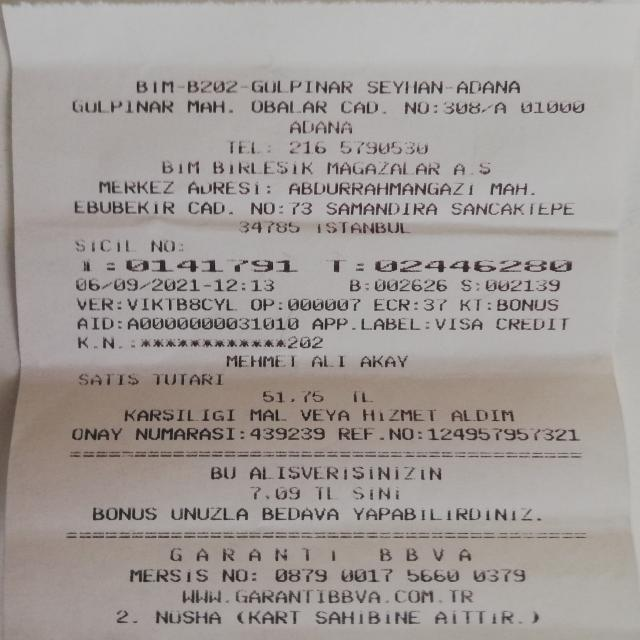text: (182, 587, 472, 604), (338, 426, 578, 441), (84, 256, 295, 273), (288, 179, 472, 198), (374, 257, 571, 274), (249, 464, 440, 480), (168, 546, 339, 562), (353, 506, 531, 521), (451, 200, 573, 218), (326, 199, 436, 217), (72, 96, 173, 115), (327, 159, 437, 176), (74, 198, 173, 216), (128, 296, 236, 312), (124, 407, 234, 422), (379, 546, 470, 564), (250, 78, 351, 94), (312, 316, 418, 331), (212, 159, 311, 175), (135, 426, 237, 441), (336, 138, 430, 154), (316, 610, 419, 624), (152, 276, 236, 293), (252, 97, 326, 115), (314, 219, 408, 233), (99, 178, 172, 196), (374, 276, 446, 294), (432, 610, 517, 624), (130, 567, 208, 582), (170, 506, 247, 521), (248, 426, 324, 441), (262, 506, 338, 521), (362, 407, 435, 422), (496, 316, 567, 331), (155, 608, 220, 624), (187, 180, 259, 194), (456, 78, 518, 94), (289, 119, 351, 135), (484, 278, 560, 291), (367, 78, 428, 94), (496, 296, 557, 312), (92, 506, 156, 521), (73, 276, 137, 291), (263, 388, 322, 404), (155, 371, 222, 385), (521, 100, 587, 114), (451, 407, 512, 422), (225, 354, 292, 367), (250, 484, 300, 501), (239, 219, 299, 233), (78, 371, 138, 385), (187, 78, 237, 94), (75, 238, 128, 253), (341, 567, 392, 582), (407, 567, 458, 582), (71, 426, 121, 441), (275, 567, 325, 582), (474, 567, 524, 582), (349, 485, 402, 499), (247, 609, 300, 623), (299, 407, 348, 422), (433, 316, 481, 331), (340, 97, 377, 116), (488, 180, 526, 198), (188, 198, 224, 217), (187, 97, 224, 115), (158, 158, 196, 175), (78, 332, 112, 350), (444, 98, 477, 116), (373, 296, 409, 312), (359, 354, 407, 366), (454, 160, 489, 176), (76, 296, 111, 312), (289, 139, 325, 154), (292, 332, 322, 350), (249, 407, 285, 422), (77, 316, 112, 331), (136, 78, 167, 94), (310, 353, 343, 367), (250, 198, 274, 217), (230, 139, 260, 154), (219, 568, 249, 582), (251, 276, 274, 294), (404, 98, 426, 116), (250, 296, 274, 312), (423, 296, 446, 312), (210, 464, 232, 480), (313, 485, 336, 500), (292, 199, 311, 217), (151, 238, 174, 252), (116, 608, 136, 624), (324, 258, 345, 273), (460, 296, 479, 312), (348, 390, 371, 403), (349, 276, 360, 294), (494, 98, 505, 115), (481, 98, 491, 116), (431, 78, 442, 94), (461, 277, 470, 294), (532, 180, 540, 198), (434, 98, 440, 116), (177, 78, 183, 94), (242, 78, 248, 94), (356, 257, 362, 273), (118, 296, 124, 312), (263, 139, 269, 154), (424, 316, 430, 331), (240, 426, 246, 441), (278, 198, 282, 216), (241, 276, 245, 294), (413, 296, 417, 312), (487, 296, 491, 312), (251, 567, 255, 582), (229, 97, 232, 115), (229, 198, 232, 216), (365, 276, 368, 294), (476, 277, 479, 294), (278, 296, 281, 312), (118, 316, 121, 331), (536, 506, 539, 521), (383, 98, 385, 116)
